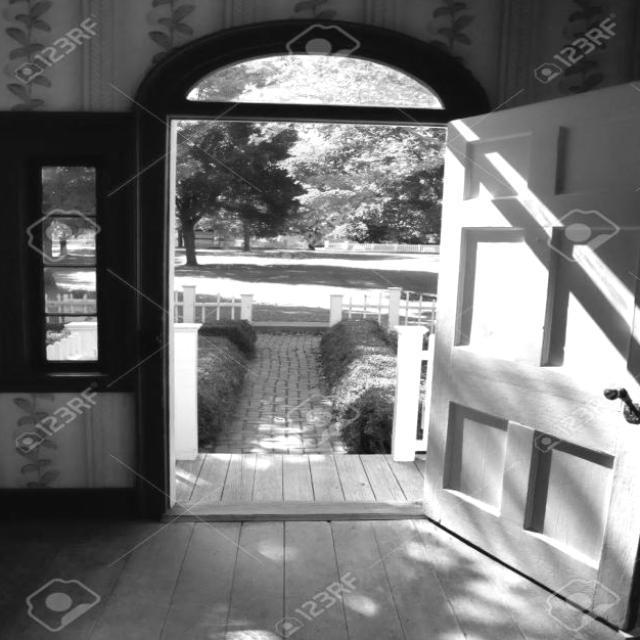door: (421, 78, 639, 634)
